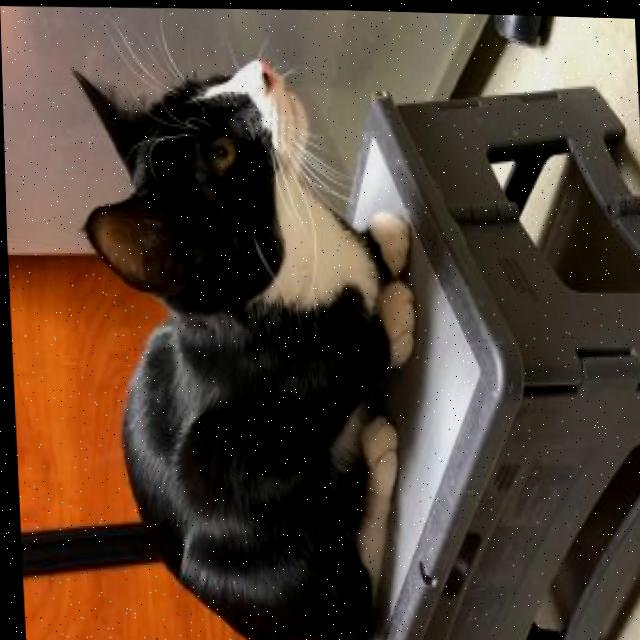Tuxedo: (61, 44, 431, 640)
